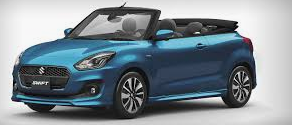car: (10, 3, 258, 121)
